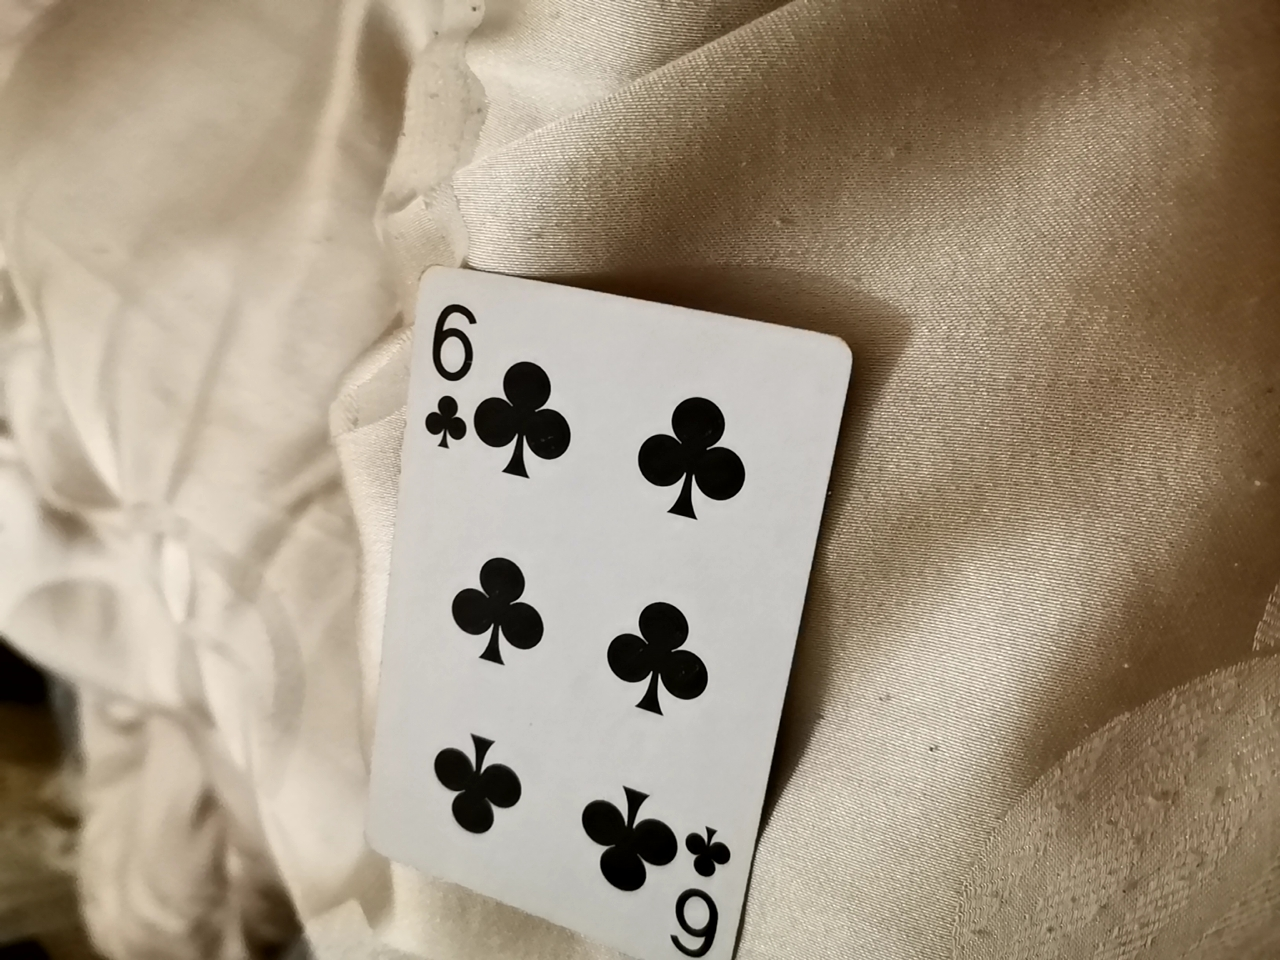mh 6: (330, 286, 839, 948)
